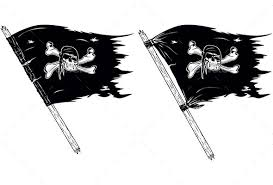Jolly Roger Flag: (6, 24, 132, 114), (150, 22, 273, 110)
